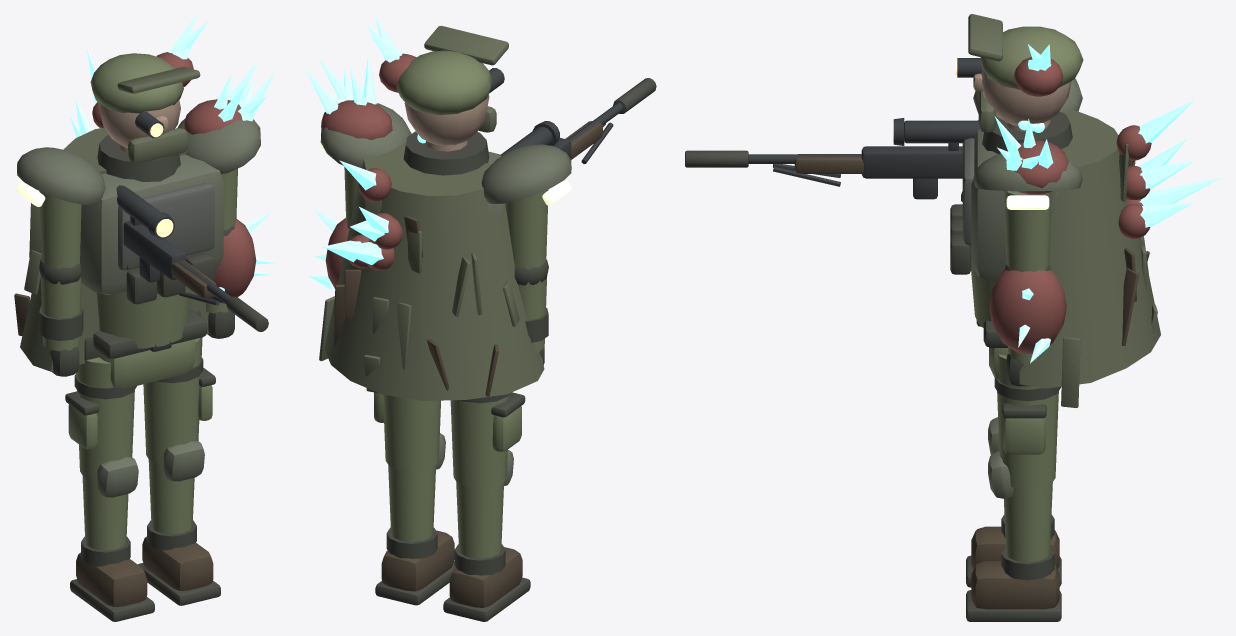
Rendered from marksman.glb.
3 views of the same model, side by side, from view 1: azimuth 30°, elevation 25°; view 2: azimuth 150°, elevation 25°; view 3: azimuth 270°, elevation 25° (orthographic). The views are drawn at different scales.
Visible parts, largest first — view 1: torso_mesh, knee_r_mesh, knee_l_mesh, head_mesh, leg_r_mesh, gun_mesh, leg_l_mesh, hips_mesh, elbow_r_mesh, arm_r_mesh, grow2_torso, grow3_elbow_l (+4 smaller); view 2: torso_mesh, head_mesh, knee_r_mesh, knee_l_mesh, leg_r_mesh, leg_l_mesh, grow3_torso, grow2_torso, gun_mesh, arm_r_mesh, elbow_r_mesh, grow3_head (+2 smaller); view 3: torso_mesh, knee_l_mesh, gun_mesh, head_mesh, leg_l_mesh, grow3_torso, grow3_elbow_l, arm_l_mesh, grow2_torso, knee_r_mesh, grow3_head, hips_mesh.
Boxes of the visible parts, left/top/right/bottom form: torso_mesh: left=14, top=119, right=261, bottom=371; knee_r_mesh: left=70, top=457, right=154, bottom=621; knee_l_mesh: left=138, top=441, right=220, bottom=605; head_mesh: left=90, top=53, right=200, bottom=163; leg_r_mesh: left=65, top=357, right=136, bottom=481; gun_mesh: left=116, top=185, right=268, bottom=331; leg_l_mesh: left=143, top=337, right=215, bottom=464; hips_mesh: left=84, top=309, right=207, bottom=388; elbow_r_mesh: left=39, top=259, right=83, bottom=376; arm_r_mesh: left=39, top=191, right=81, bottom=269; grow2_torso: left=184, top=61, right=274, bottom=134; grow3_elbow_l: left=214, top=212, right=275, bottom=297; torso_mesh: left=319, top=103, right=571, bottom=400; head_mesh: left=396, top=25, right=508, bottom=151; knee_r_mesh: left=443, top=450, right=530, bottom=621; knee_l_mesh: left=375, top=433, right=455, bottom=605; leg_r_mesh: left=450, top=392, right=525, bottom=488; leg_l_mesh: left=374, top=392, right=440, bottom=471; grow3_torso: left=322, top=160, right=402, bottom=270; grow2_torso: left=306, top=56, right=392, bottom=139; gun_mesh: left=500, top=78, right=656, bottom=163; arm_r_mesh: left=505, top=189, right=548, bottom=269; elbow_r_mesh: left=514, top=259, right=548, bottom=364; grow3_head: left=365, top=15, right=416, bottom=92; torso_mesh: left=950, top=78, right=1160, bottom=407; knee_l_mesh: left=966, top=451, right=1061, bottom=621; gun_mesh: left=685, top=118, right=979, bottom=201; head_mesh: left=955, top=14, right=1083, bottom=132; leg_l_mesh: left=994, top=354, right=1060, bottom=489; grow3_torso: left=1116, top=100, right=1220, bottom=238; grow3_elbow_l: left=989, top=269, right=1066, bottom=363; arm_l_mesh: left=1004, top=191, right=1051, bottom=272; grow2_torso: left=994, top=116, right=1068, bottom=194; knee_r_mesh: left=966, top=417, right=1061, bottom=587; grow3_head: left=1014, top=44, right=1063, bottom=96; hips_mesh: left=976, top=318, right=1008, bottom=379.
Bounding box in the file's own units: 0.8621 × 1.83 × 1.52.
